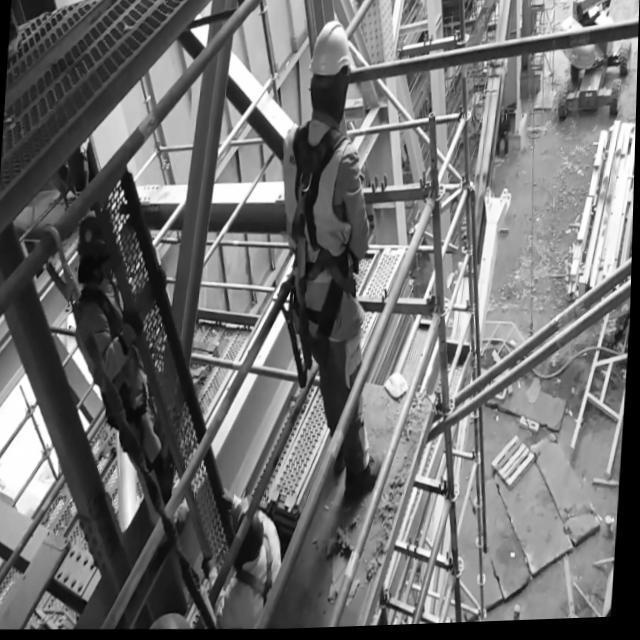Arnes_seguridad: (286, 122, 364, 340)
